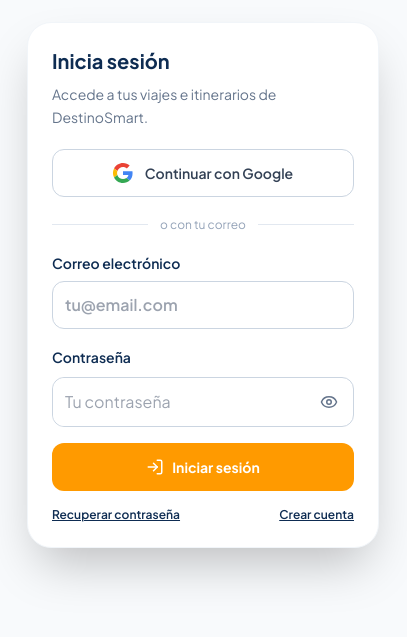
Test: LoginForm › muestra error estable del servicio
The width and height of the screenshot is (407, 637).
Type "user@example.com" into the field labelled "Correo electrónico" at x=203, y=305, box [52,281,354,329]
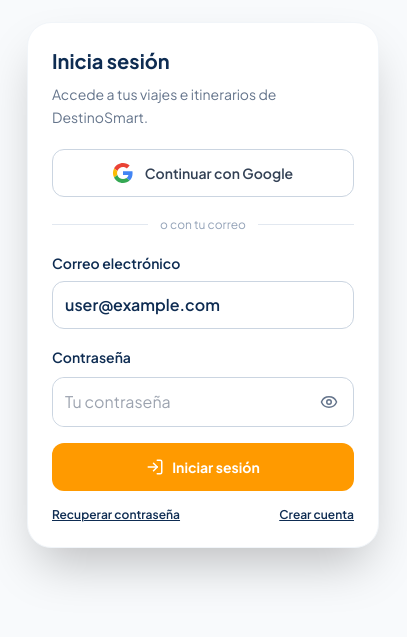
Type "wrong-password" into the password field labelled "Contraseña" at x=181, y=402, box [53,378,309,426]
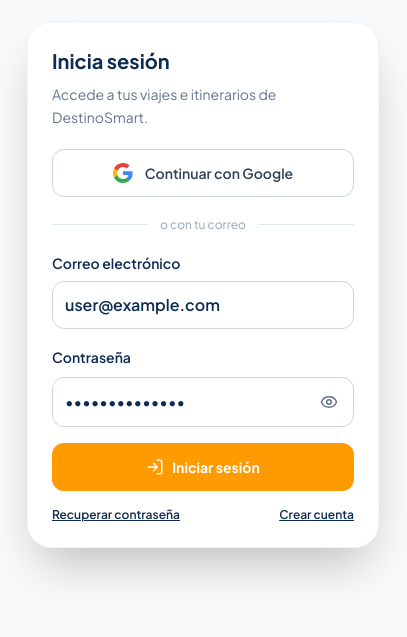
Click the button "Iniciar sesión" at x=203, y=467, box [52,443,354,491]
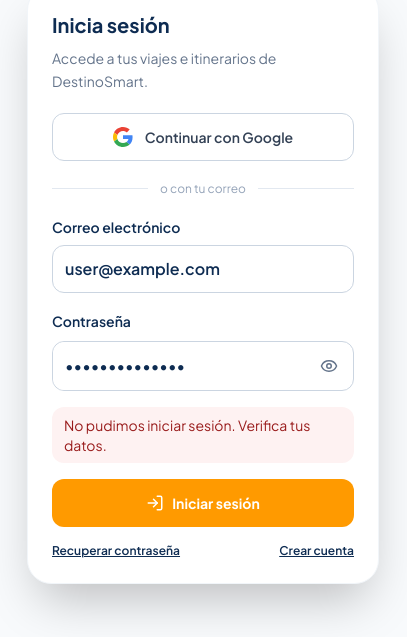
Result: the message shows "No pudimos iniciar sesión" at [64,416,310,454]
